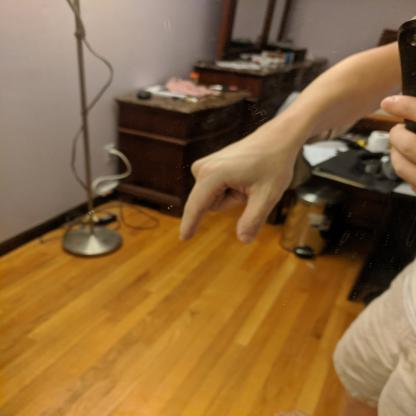Q: (172, 127, 300, 249)
